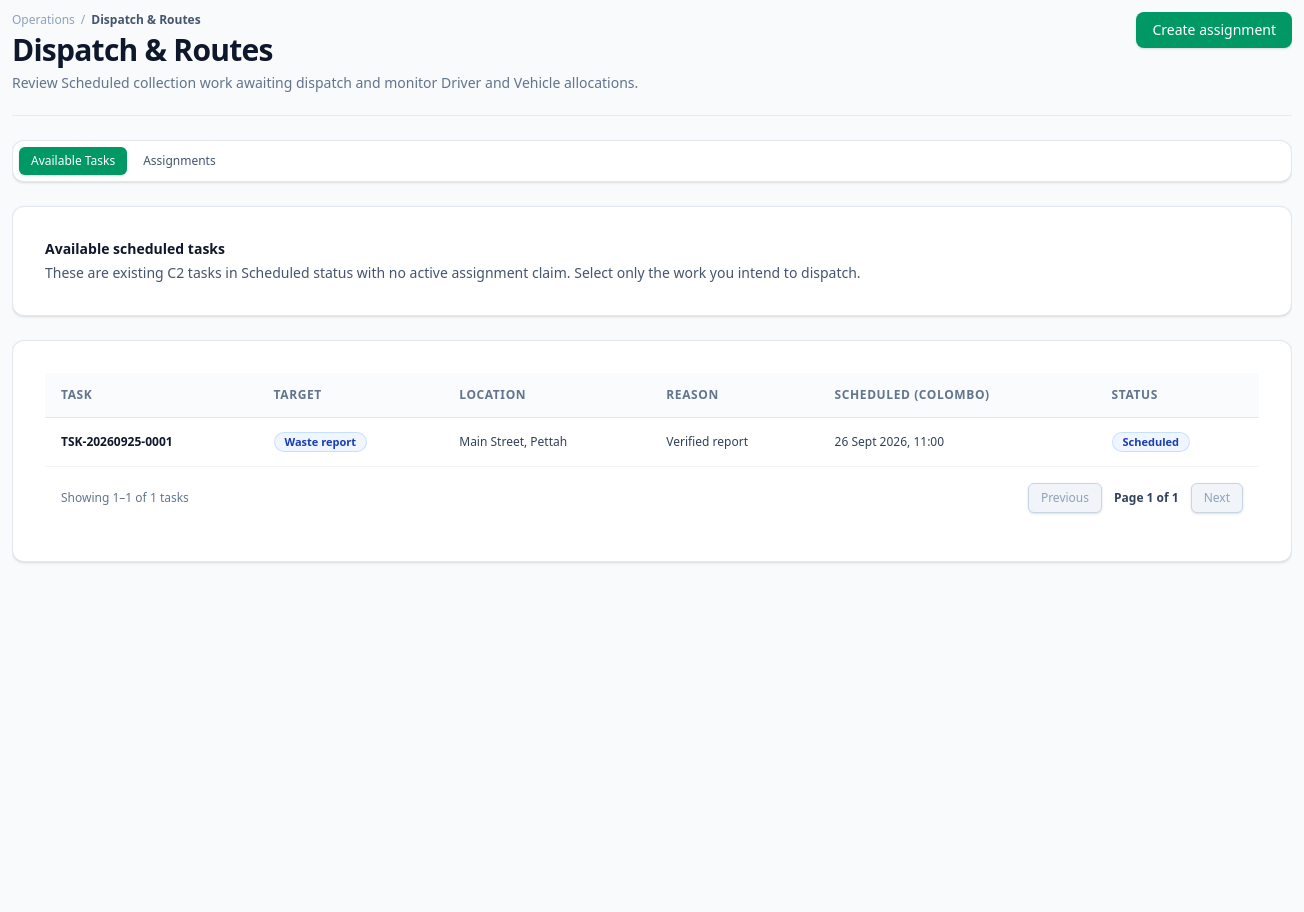
Scenario: DispatchRoutesPage › renders available task data with an API-safe page size and switches to assignment summaries
Check: the text "TSK-20260925-0001" is shown, box [45,417,258,466]
Check: the text "Waste report" is shown, box [274,432,367,452]
Click the button "Assignments" at [179, 161], box [131,147,228,175]
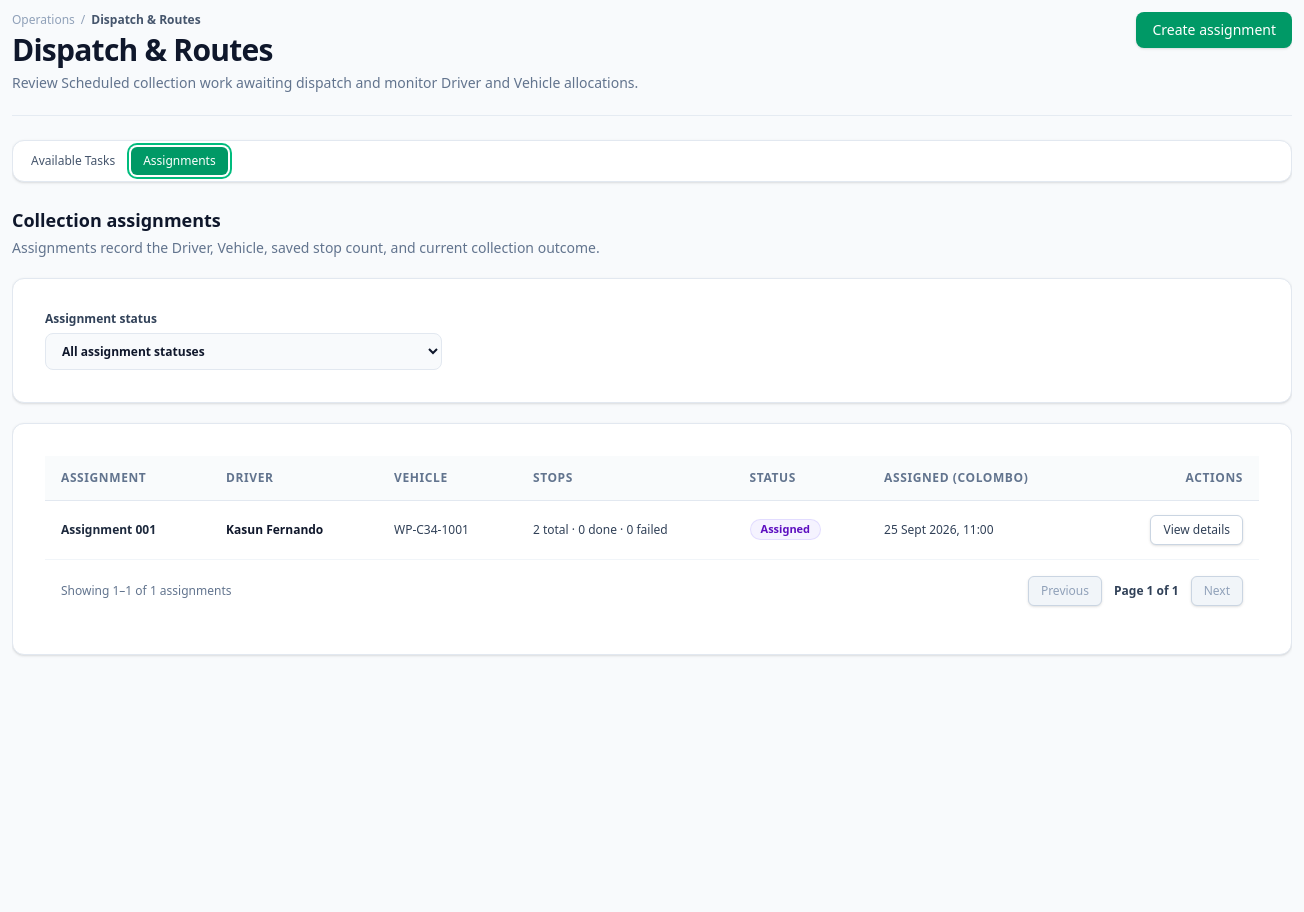
Check: the text "Assignment 001" is shown, box [45,500,210,559]
Check: the text "Kasun Fernando" is shown, box [210,500,378,559]
